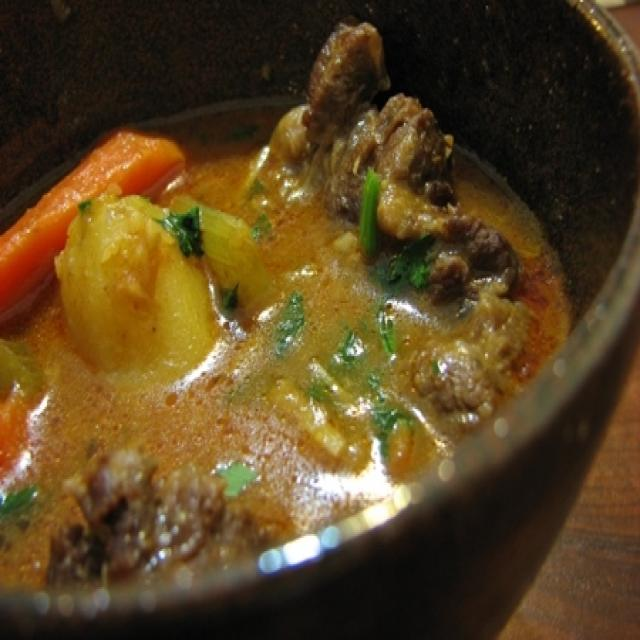汤锅炖物: (13, 23, 607, 615)
